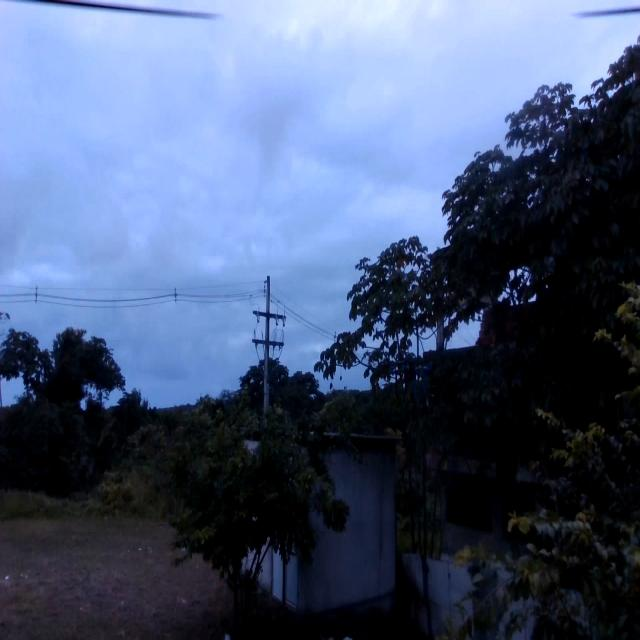-uav-: (385, 352, 441, 414)
